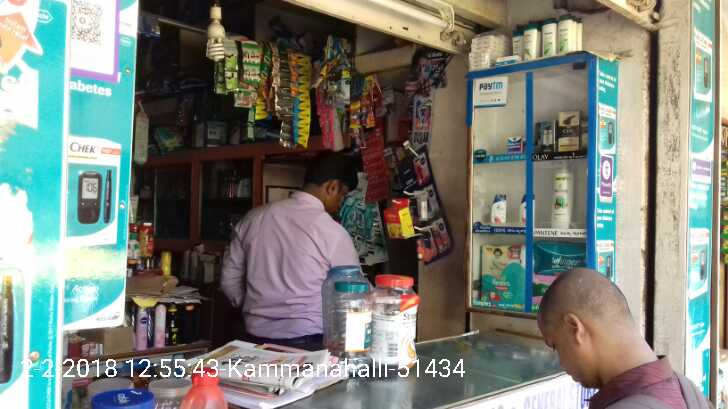beauty: (551, 165, 574, 229), (558, 113, 580, 150), (489, 193, 509, 227), (535, 122, 553, 155)
pharmacy: (480, 243, 529, 309), (535, 237, 585, 282), (506, 134, 524, 152)
